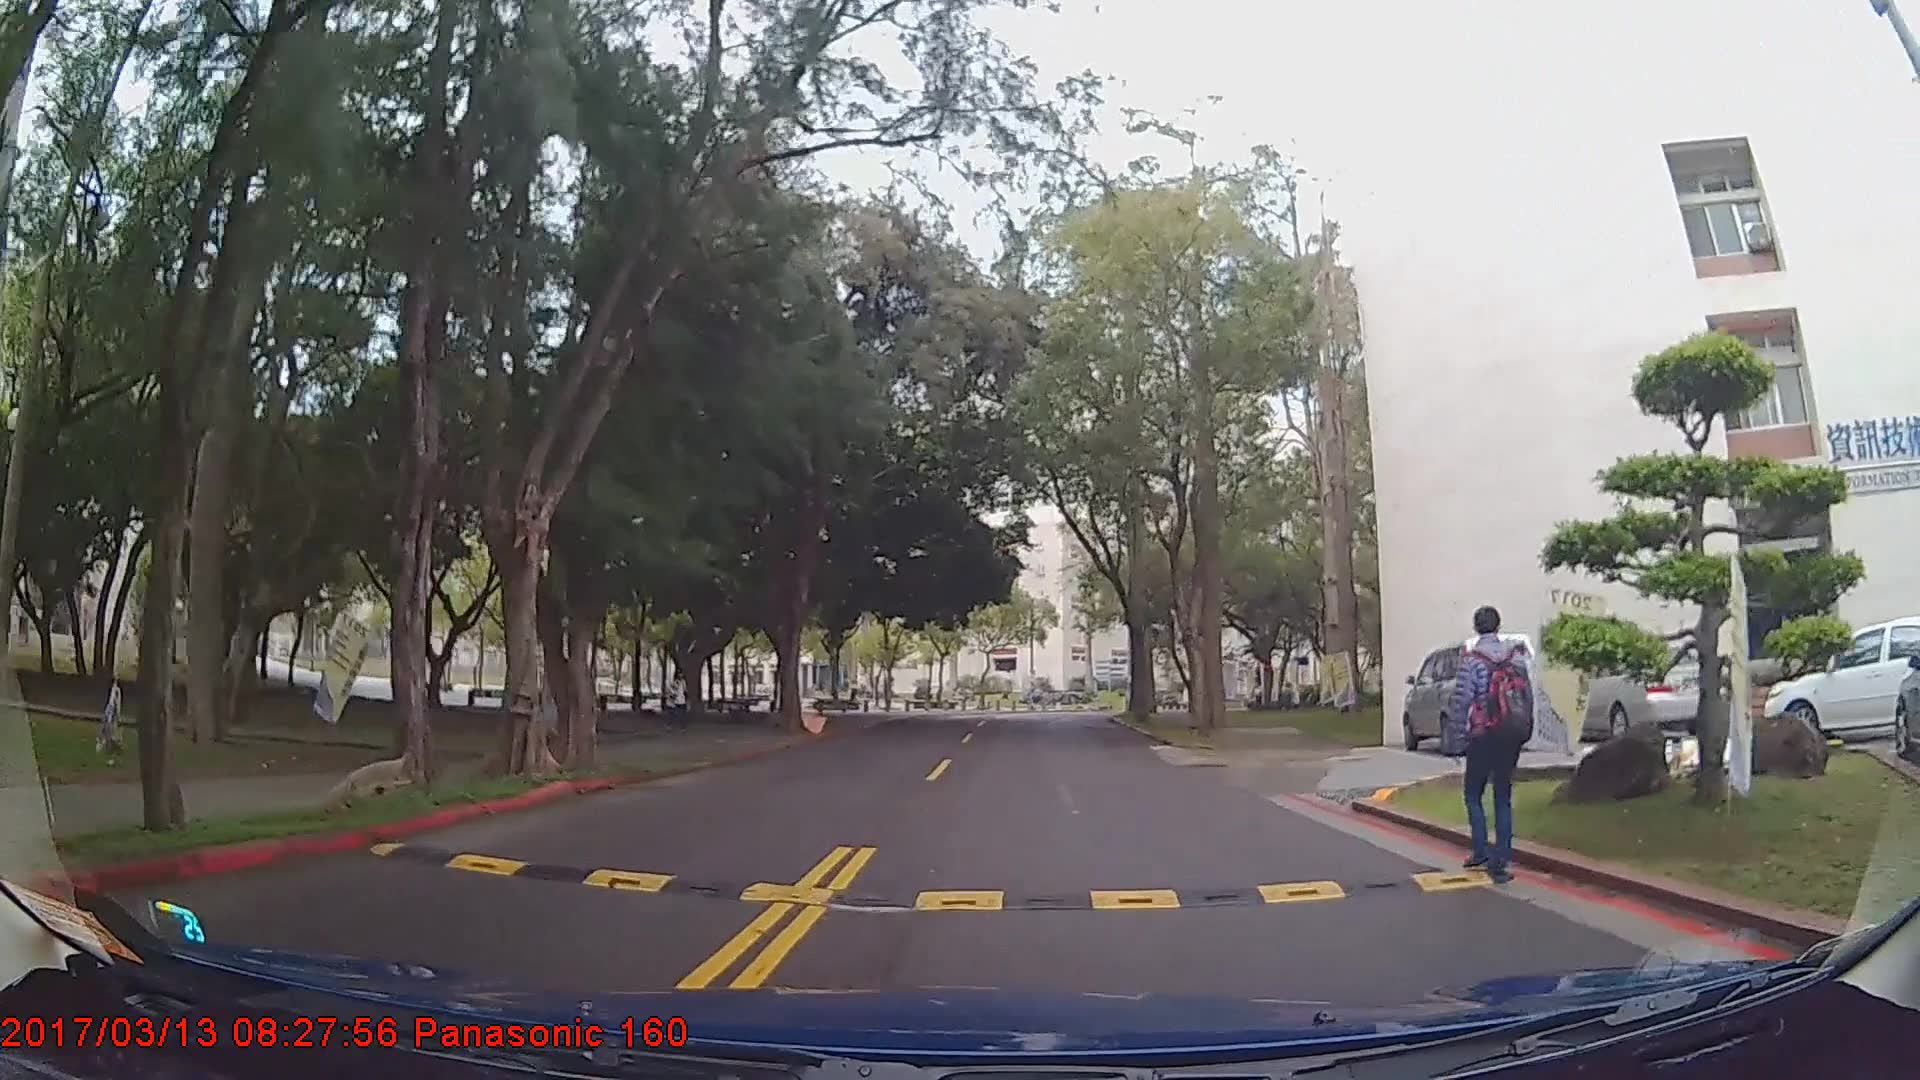pedestrian: (1451, 605, 1532, 882), (664, 667, 694, 734)
vehicle: (1758, 617, 1920, 746), (1402, 635, 1539, 753)
